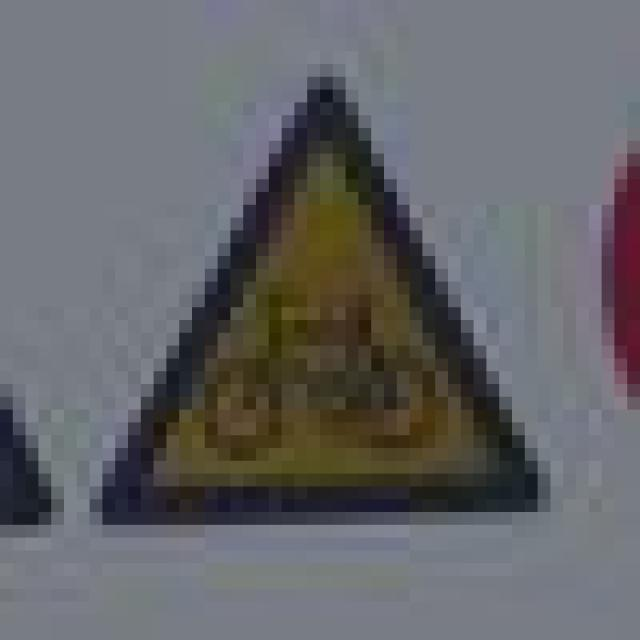cycle_crossing: (64, 64, 525, 512)
